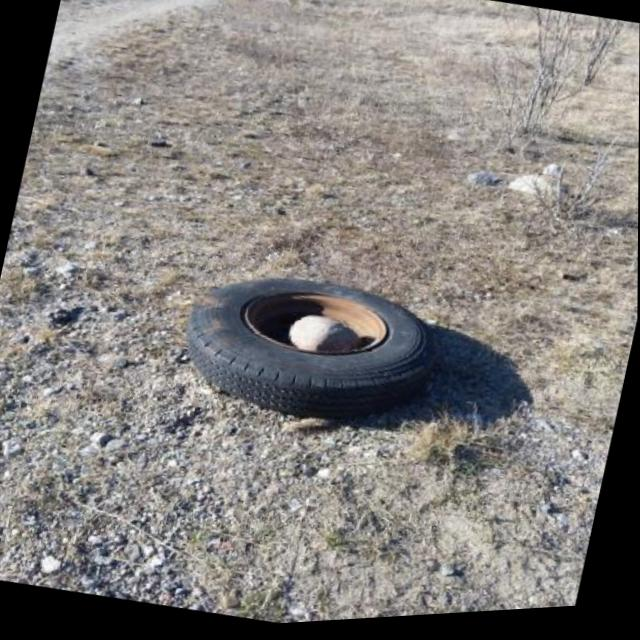other: (170, 247, 451, 450)
